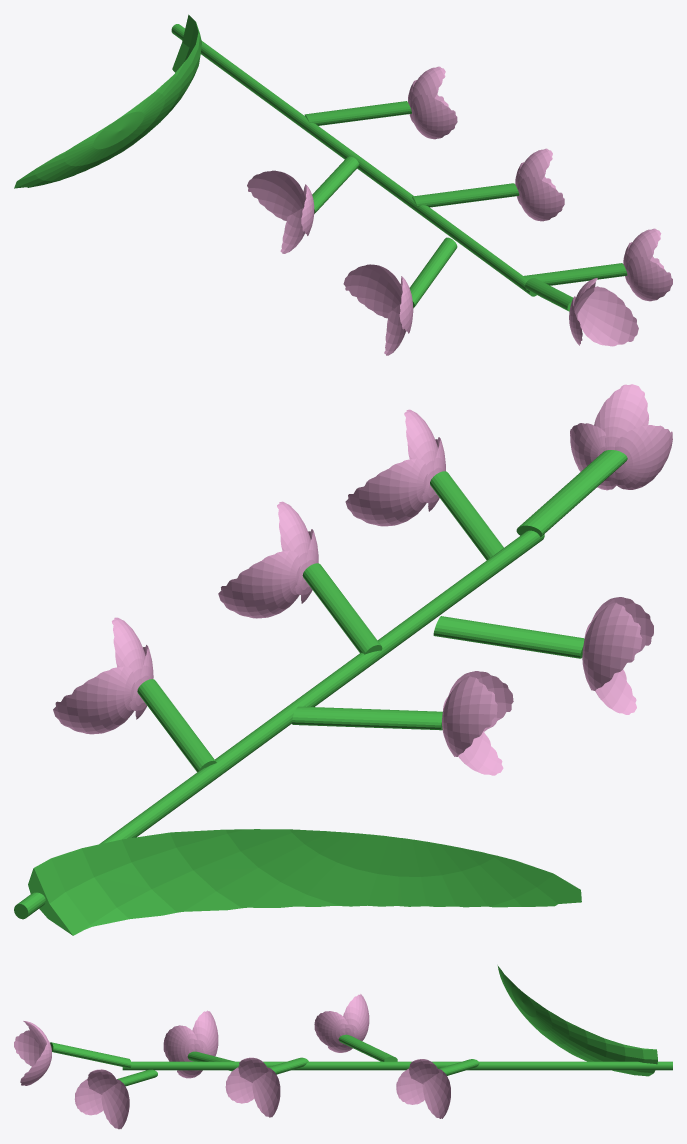
File: tinker.obj
3 views of the same model, one above another, from view 1: azimuth 30°, elevation 25°; view 2: azimuth 150°, elevation 25°; view 3: azimuth 270°, elevation 25° (orthographic). The views are drawn at different scales.
Visible parts, largest first — view 1: group_0_4634441, group_0_15445464; view 2: group_0_4634441, group_0_15445464; view 3: group_0_15445464, group_0_4634441.
Part boxes in pixels (x1,y1,x2,y2): group_0_4634441: (14, 14, 627, 311); group_0_15445464: (247, 66, 672, 355); group_0_4634441: (14, 450, 627, 935); group_0_15445464: (53, 384, 672, 775); group_0_15445464: (14, 994, 450, 1129); group_0_4634441: (50, 965, 672, 1086).
Size of the model in its own units: 40.68 by 12 by 74.23.
